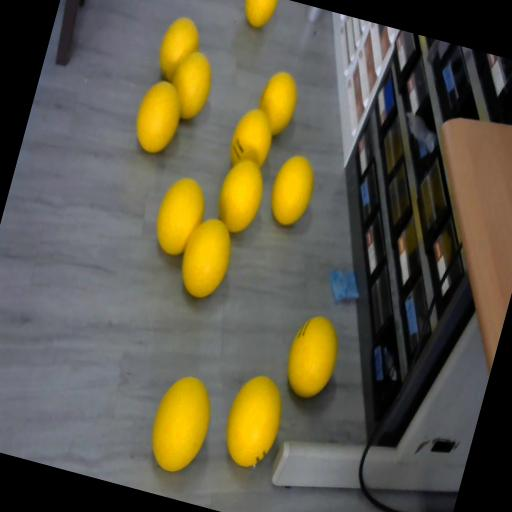FUEL: (142, 368, 220, 476), (216, 368, 292, 472), (278, 308, 346, 402), (172, 212, 240, 302), (147, 170, 213, 261), (210, 154, 270, 237), (129, 76, 188, 157), (263, 150, 320, 230), (152, 12, 205, 86), (252, 68, 304, 138), (237, 0, 277, 31)
